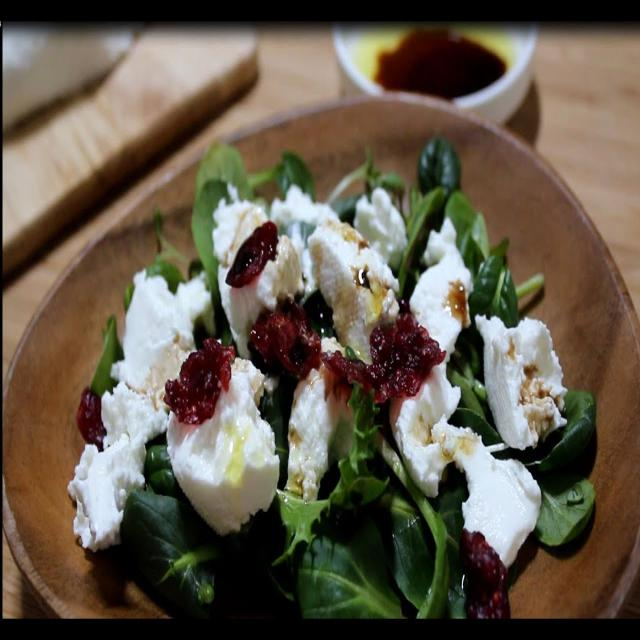cheese: (67, 269, 209, 551), (169, 357, 279, 535), (433, 420, 543, 569), (212, 188, 304, 357), (308, 219, 400, 363), (476, 315, 567, 449), (410, 217, 473, 358), (286, 364, 348, 501), (354, 186, 408, 270), (270, 183, 339, 229)
